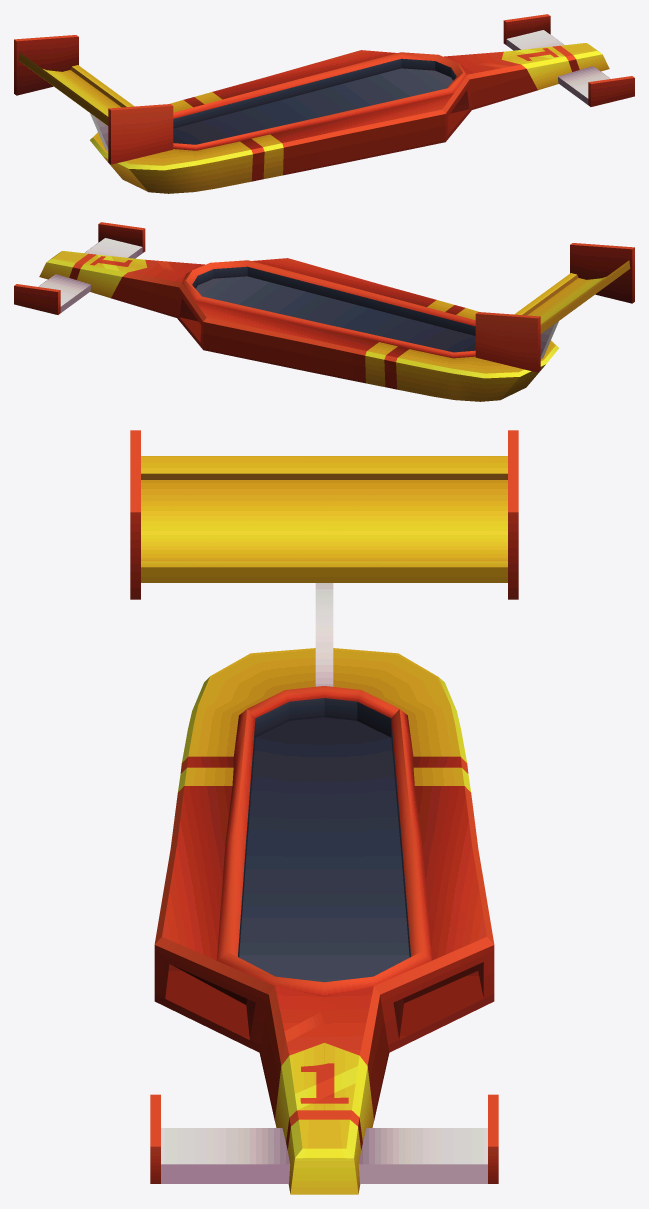
File: monacoBoard.glb
The picture shows the model from 3 angles, top to bottom: view 1: azimuth 30°, elevation 25°; view 2: azimuth 150°, elevation 25°; view 3: azimuth 270°, elevation 25°; orthographic projection. The views are drawn at different scales.
Visible parts, largest first — view 1: monacoBoard; view 2: monacoBoard; view 3: monacoBoard.
Boxes of the visible parts, box(x1,y1,x2,y2) form: monacoBoard: box(14, 14, 634, 193); monacoBoard: box(14, 222, 634, 401); monacoBoard: box(130, 430, 518, 1194).
Bounding box in the file's own units: 14.44 × 3.06 × 4.5.
1 material, 1 textured.
